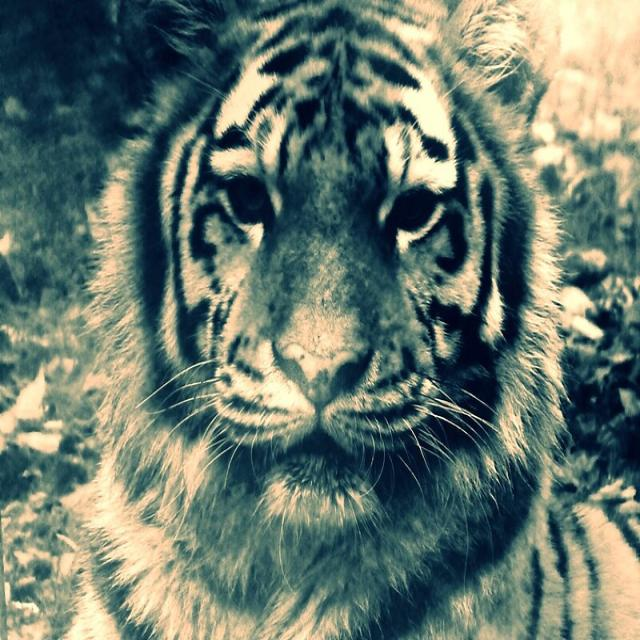Tiger: (67, 0, 608, 638)
